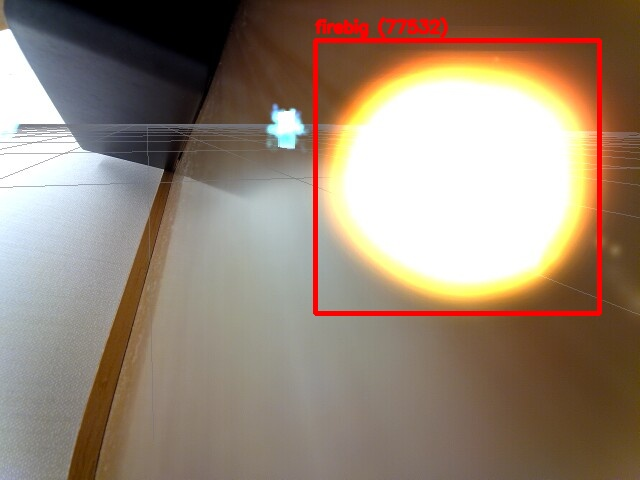firebig: (315, 40, 599, 313)
